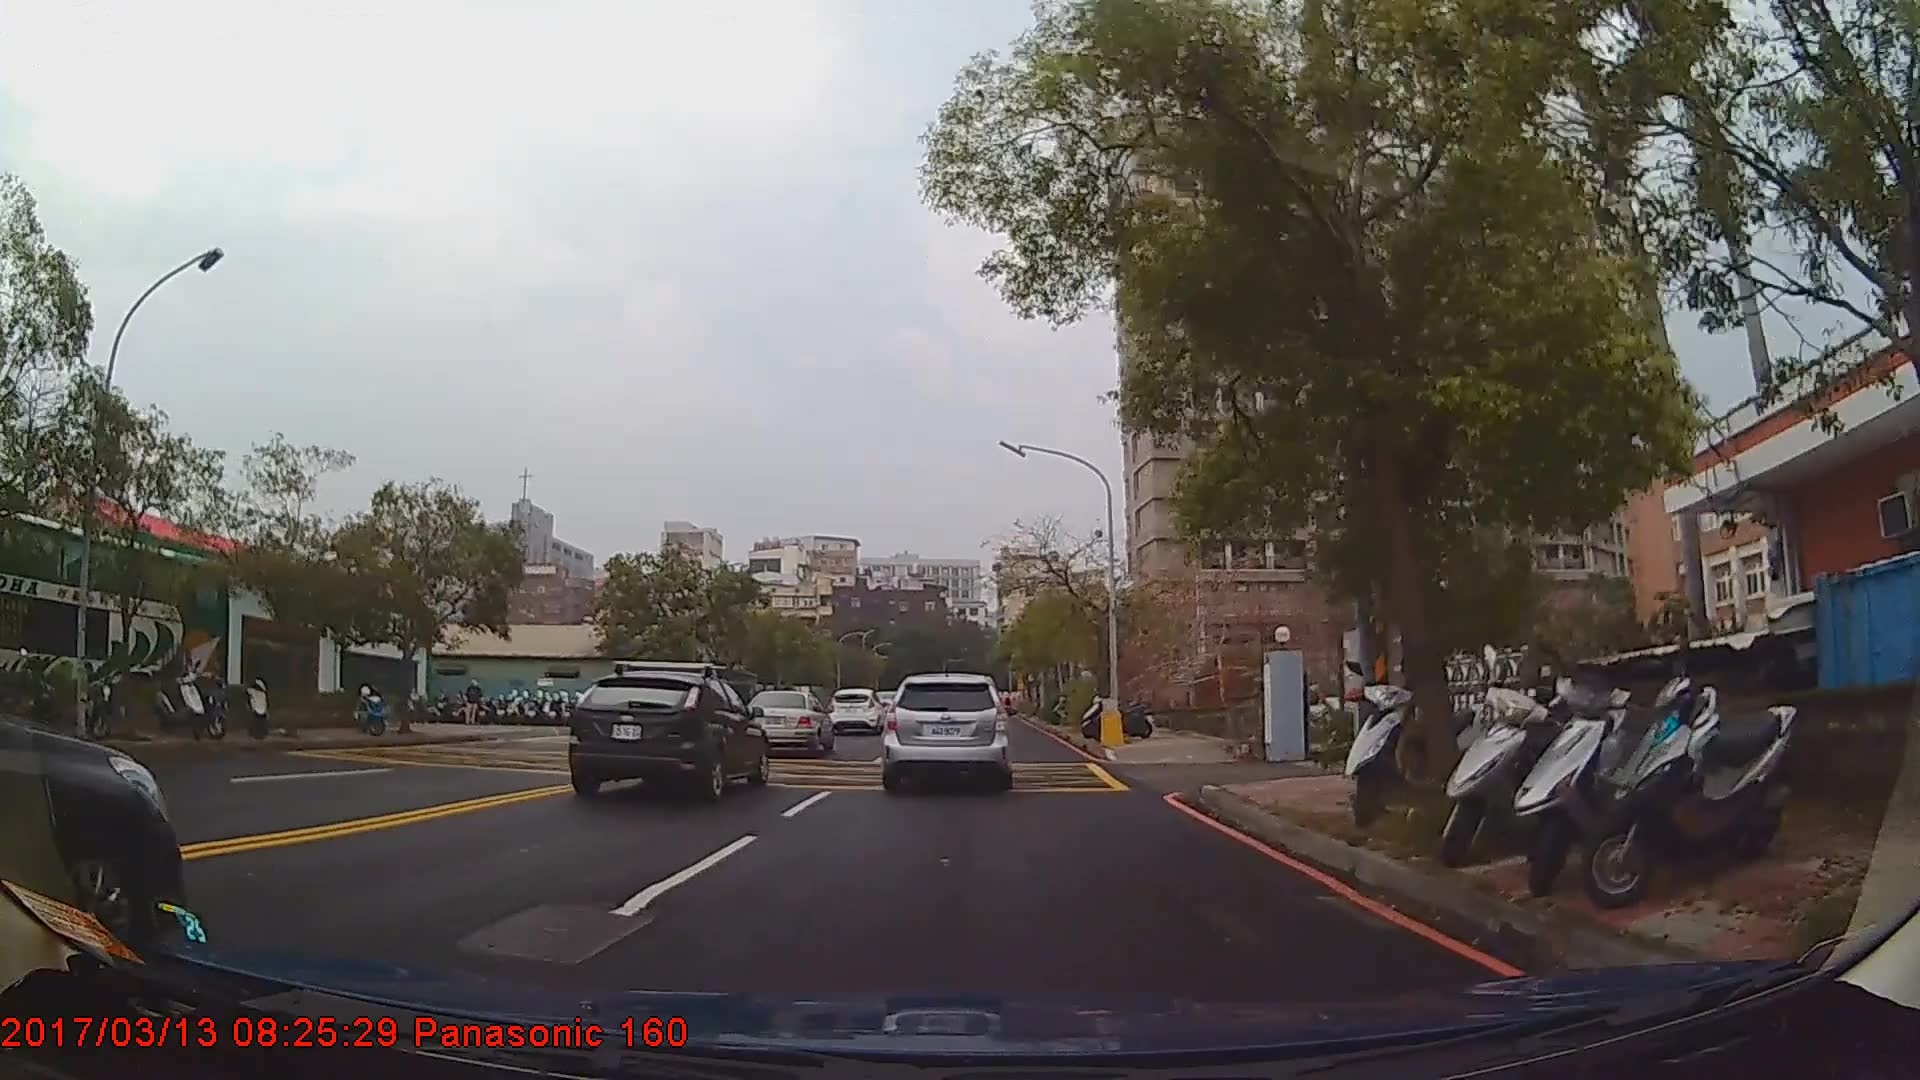pedestrian: (465, 680, 485, 726)
vehicle: (0, 501, 229, 732), (566, 668, 768, 804), (884, 672, 1009, 787), (743, 689, 832, 755), (827, 687, 885, 734)
